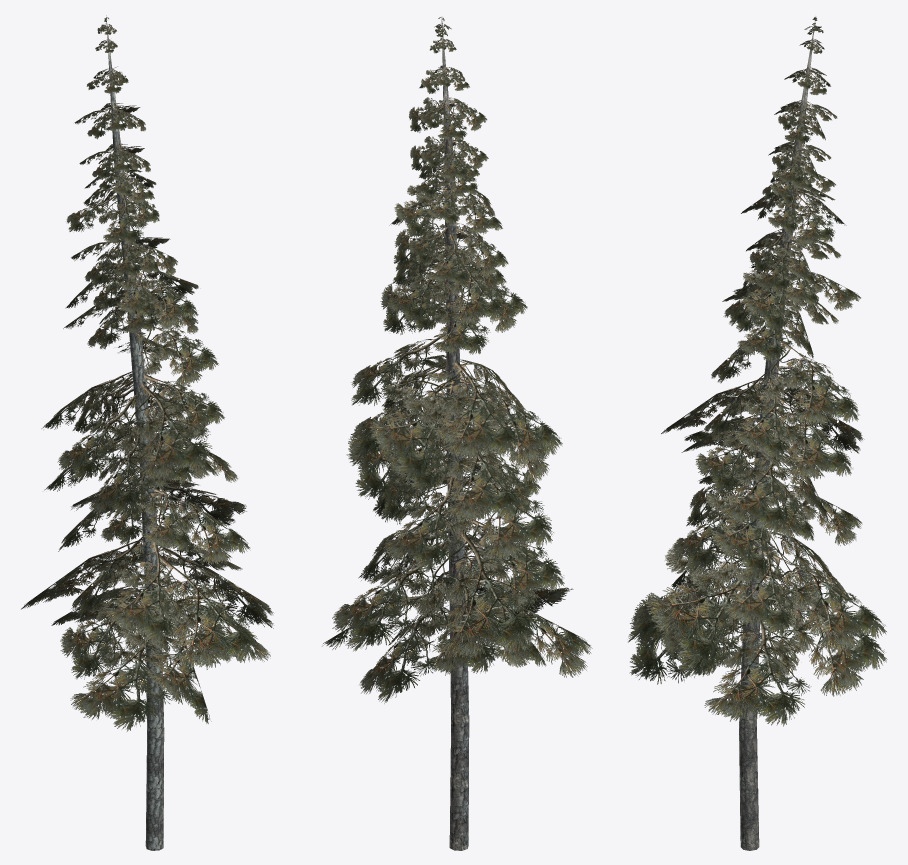
File: pine_d.dae
3 renders of one model, left to right at view 1: azimuth 30°, elevation 25°; view 2: azimuth 150°, elevation 25°; view 3: azimuth 270°, elevation 25°, orthographic. The views are drawn at different scales.
Parts seen in each view (by area): view 1: Pine_d; view 2: Pine_d; view 3: Pine_d.
Boxes of the visible parts, left/top/right/bottom form: Pine_d: left=21, top=15, right=273, bottom=850; Pine_d: left=322, top=17, right=592, bottom=850; Pine_d: left=628, top=16, right=887, bottom=850.
Size of the model in its own units: 414 by 427 by 1431.
